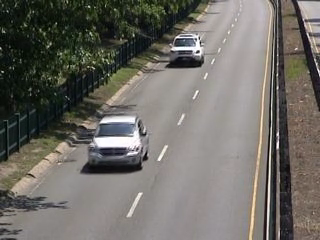car: (85, 112, 154, 175), (163, 30, 208, 70)
